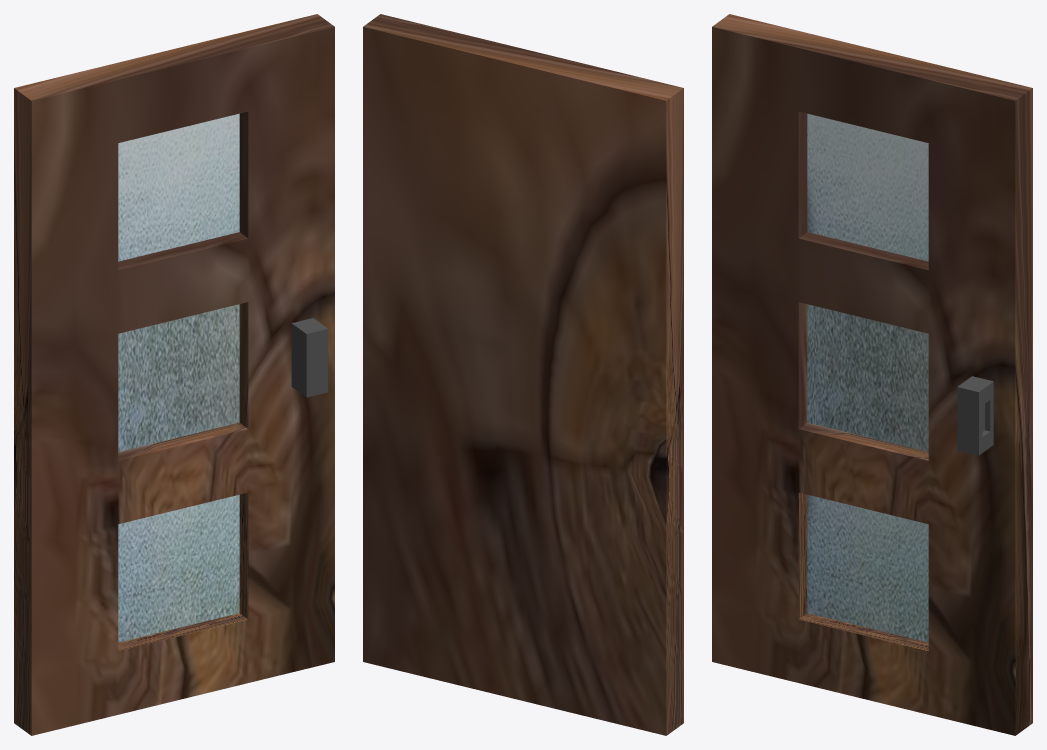
Rendered from Puerta_46.fbx.
3 renders of one model, left to right at view 1: azimuth 30°, elevation 25°; view 2: azimuth 150°, elevation 25°; view 3: azimuth 330°, elevation 25°, orthographic.
Parts seen in each view (by area): view 1: Cube.054; view 2: Cube.054; view 3: Cube.054.
Boxes of the visible parts, x1=… form: Cube.054: x1=14, y1=14, x2=334, y2=735; Cube.054: x1=363, y1=14, x2=683, y2=735; Cube.054: x1=712, y1=14, x2=1032, y2=735.
Size of the model in its own units: 200 by 400 by 37.
